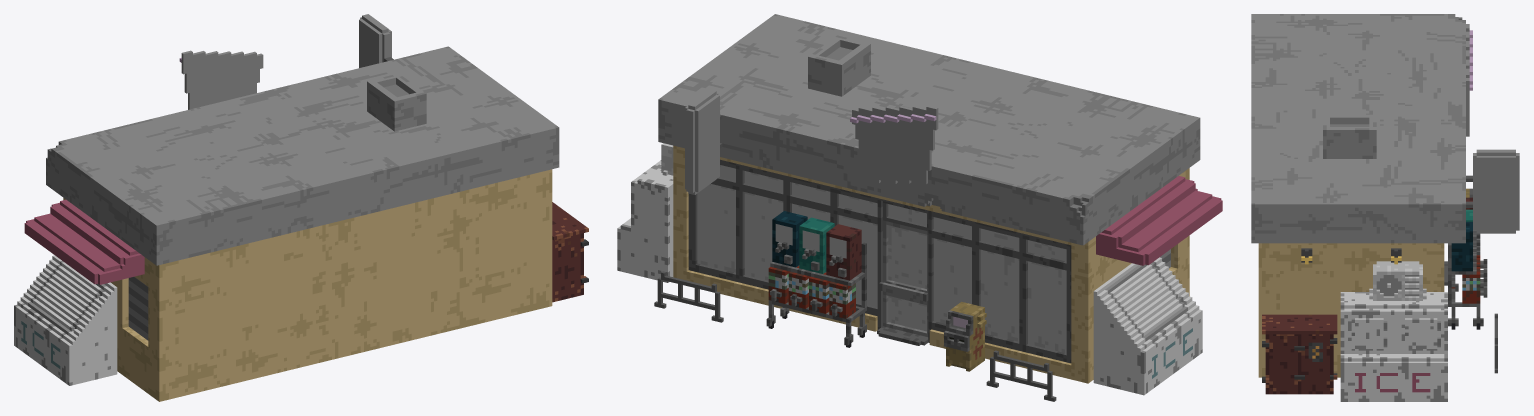
Rendered from Shop-1-ShopBuilding_2.obj.
3 views of the same model, side by side, from view 1: azimuth 30°, elevation 25°; view 2: azimuth 150°, elevation 25°; view 3: azimuth 270°, elevation 25° (orthographic). The views are drawn at different scales.
Visible parts, largest first — view 1: ShopBuilding_2; view 2: ShopBuilding_2; view 3: ShopBuilding_2.
Part boxes in pixels (<box>): ShopBuilding_2: <box>14,14,588,401</box>; ShopBuilding_2: <box>617,14,1222,401</box>; ShopBuilding_2: <box>1251,14,1519,401</box>.
Bounding box in the file's own units: 15.5 × 7.2 × 7.5.
1 material, 1 textured.
